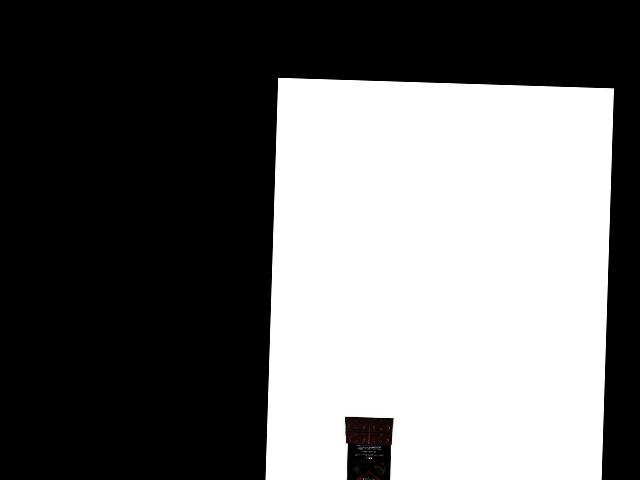chocolate: (339, 413, 395, 480)
